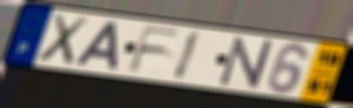6: (264, 42, 311, 96)
A: (73, 20, 122, 72)
F: (125, 25, 185, 74)
I: (170, 28, 204, 83)
N: (217, 36, 275, 91)
X: (35, 12, 92, 67)
